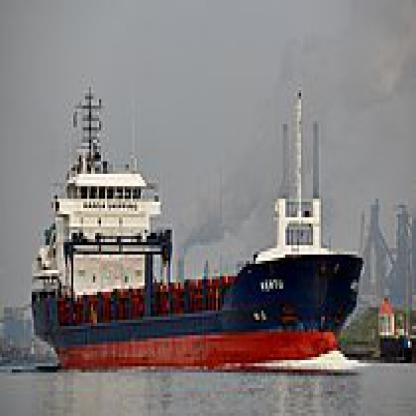Container Ship: (29, 81, 365, 371)
